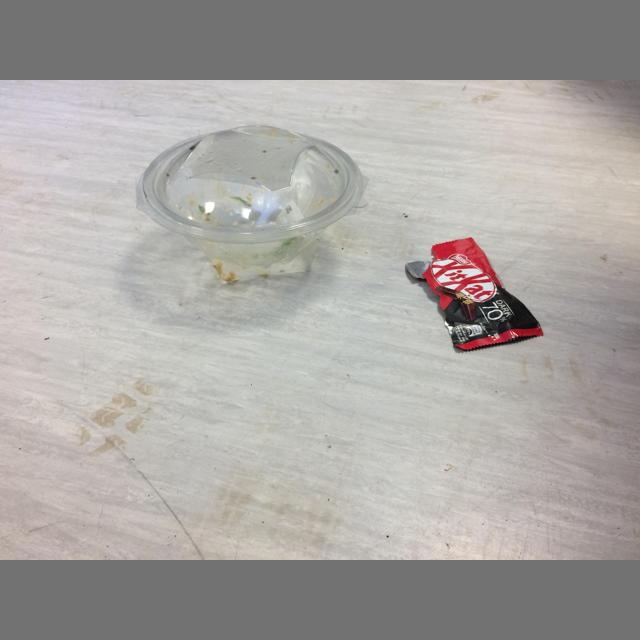litter: (135, 125, 369, 282), (406, 238, 543, 350)
